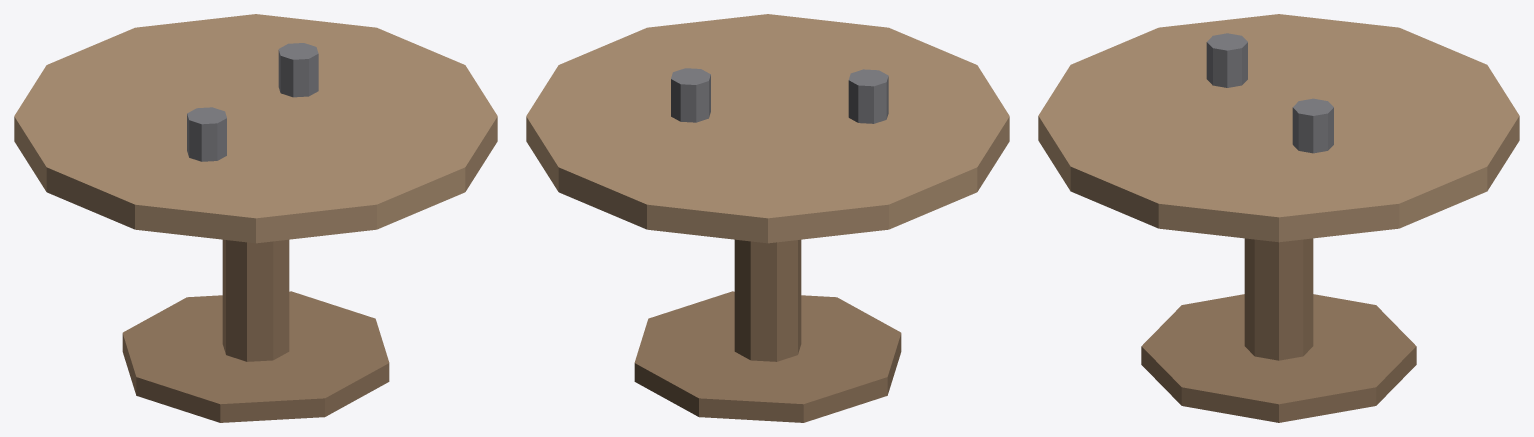
Rendered from round_table.glb.
3 views of the same model, side by side, from view 1: azimuth 30°, elevation 25°; view 2: azimuth 150°, elevation 25°; view 3: azimuth 270°, elevation 25° (orthographic).
Visible parts, largest first — view 1: round_table; view 2: round_table; view 3: round_table.
Part boxes in pixels (left/top/right/bottom): round_table: left=14, top=14, right=497, bottom=422; round_table: left=526, top=14, right=1009, bottom=422; round_table: left=1038, top=14, right=1519, bottom=422.
Bounding box in the file's own units: 1.4 × 0.9201 × 1.4.
